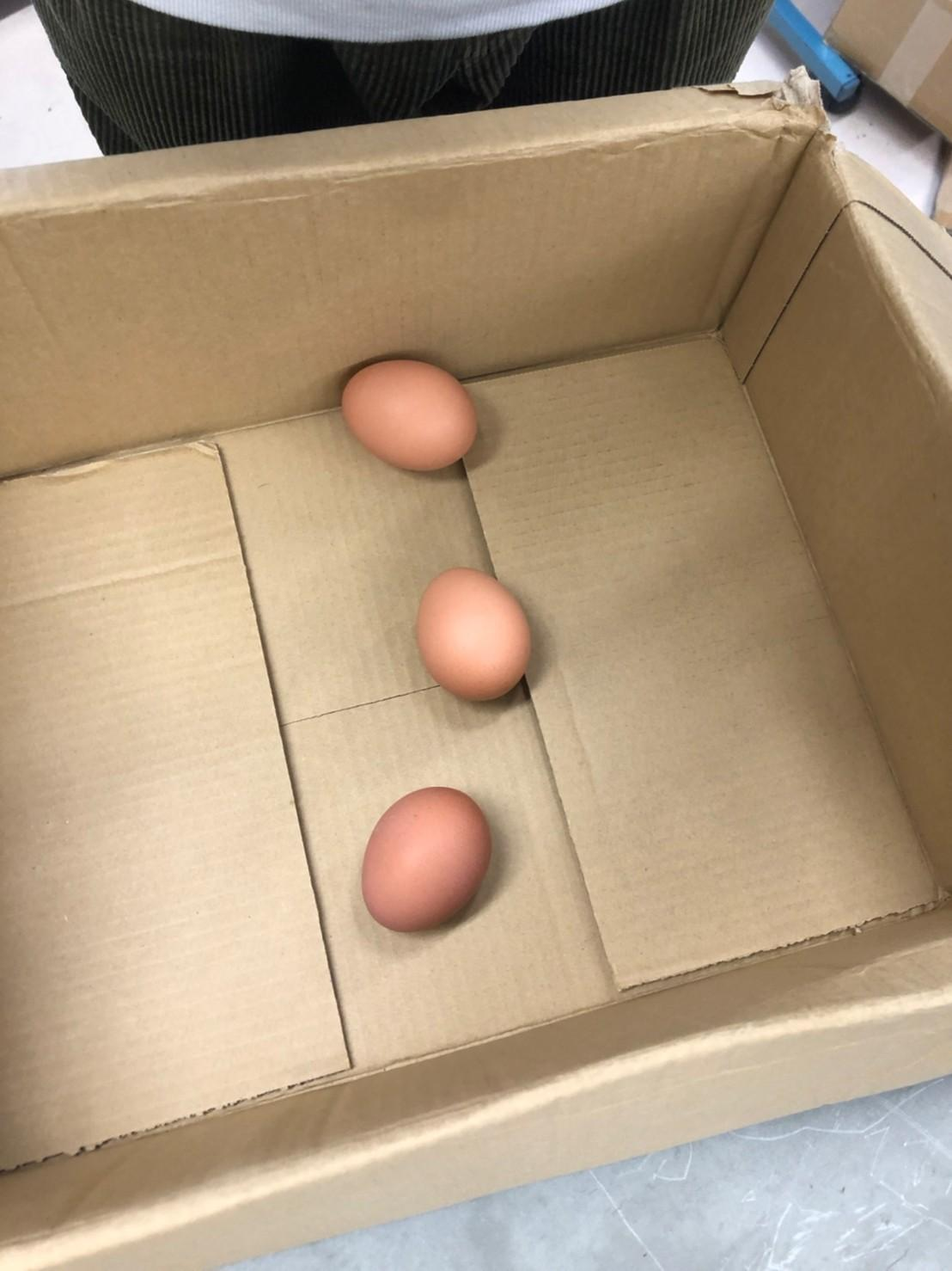egg: (355, 784, 494, 932), (333, 346, 480, 478), (413, 555, 539, 705)
